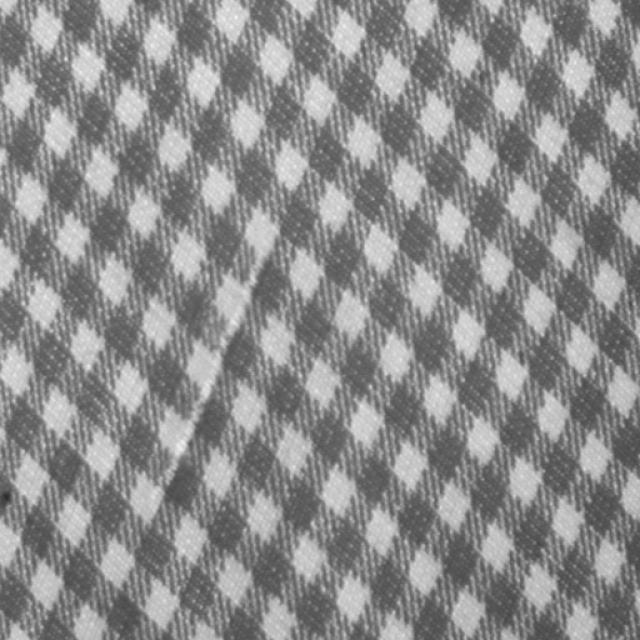Thread-Defect: (157, 219, 282, 494)
